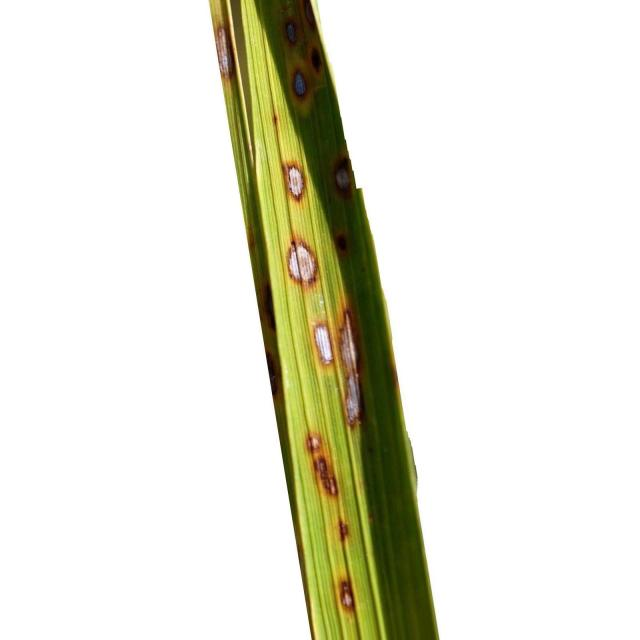Brown_Spot: (306, 434, 338, 495), (216, 26, 232, 78), (288, 165, 304, 200), (339, 580, 355, 611), (294, 72, 306, 96), (339, 520, 349, 541), (286, 22, 296, 42), (336, 235, 348, 250)
